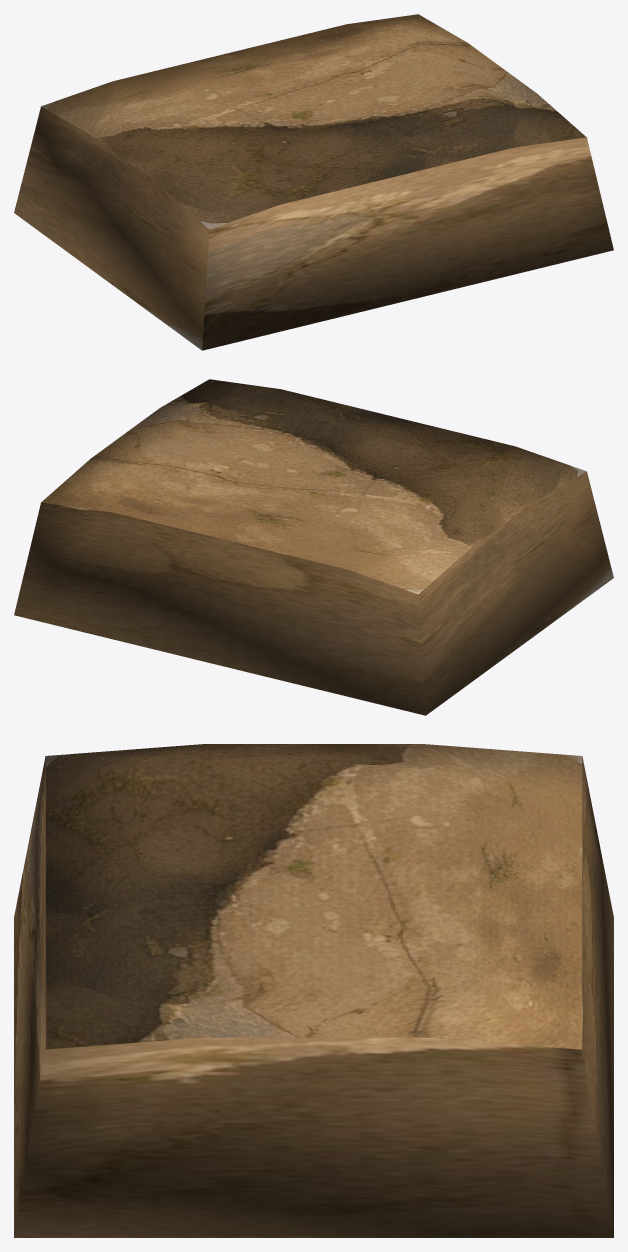
Rendered from toad-prop-stone-sit.glb.
3 views of the same model, one above another, from view 1: azimuth 30°, elevation 25°; view 2: azimuth 150°, elevation 25°; view 3: azimuth 270°, elevation 25° (orthographic). The views are drawn at different scales.
Visible parts, largest first — view 1: stone; view 2: stone; view 3: stone.
Part boxes in pixels (box(x1,y1,x2,y2)): stone: box(14, 14, 613, 350); stone: box(14, 379, 613, 715); stone: box(14, 744, 613, 1237).
Size of the model in its own units: 0.1 by 0.03 by 0.0792.
1 material, 1 textured.
